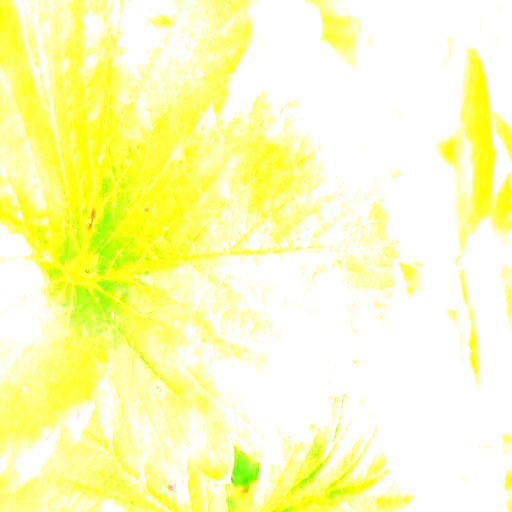Leaf Spot: (82, 76, 407, 500), (31, 0, 265, 271)
